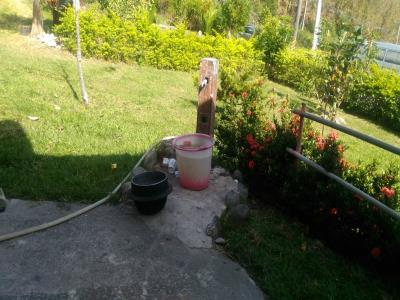bowl: (125, 169, 173, 217)
bucket: (170, 132, 216, 192)
